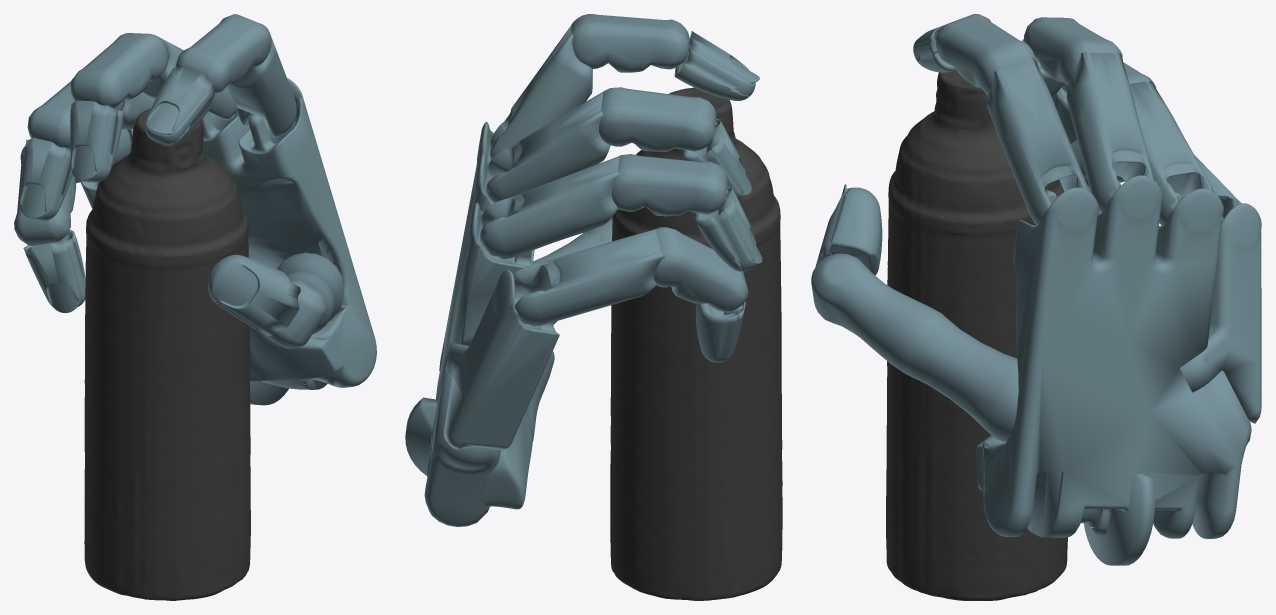
3 renders of one model, left to right at view 1: azimuth 30°, elevation 25°; view 2: azimuth 150°, elevation 25°; view 3: azimuth 270°, elevation 25°, orthographic. The views are drawn at different scales.
Visible parts, largest first — view 1: world; view 2: world; view 3: world.
Part boxes in pixels (x1,y1,x2,y2): world: (14, 14, 376, 600); world: (405, 14, 782, 600); world: (811, 14, 1261, 600).
Bounding box in the file's own units: 0.1293 × 0.1953 × 0.1394.
1 material, 1 textured.
